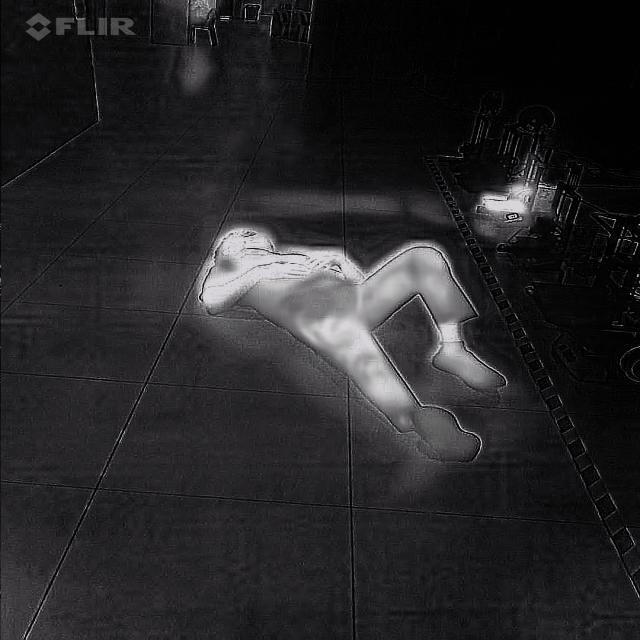Victim: (198, 215, 515, 468)
